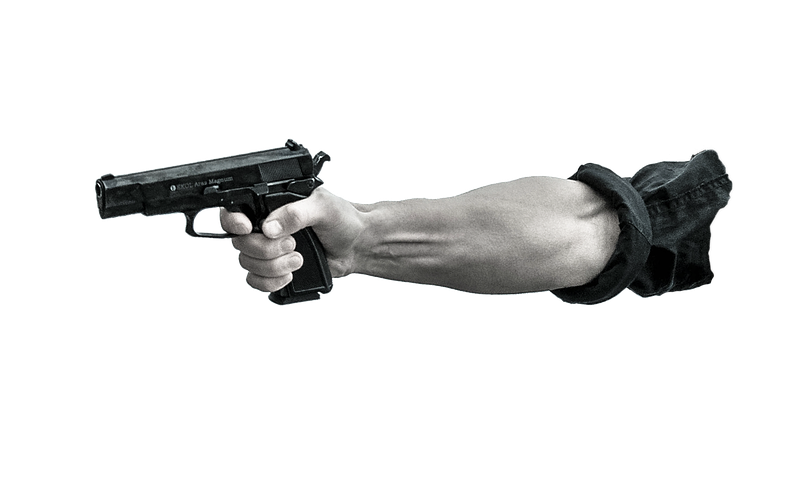gun: (80, 127, 352, 317)
